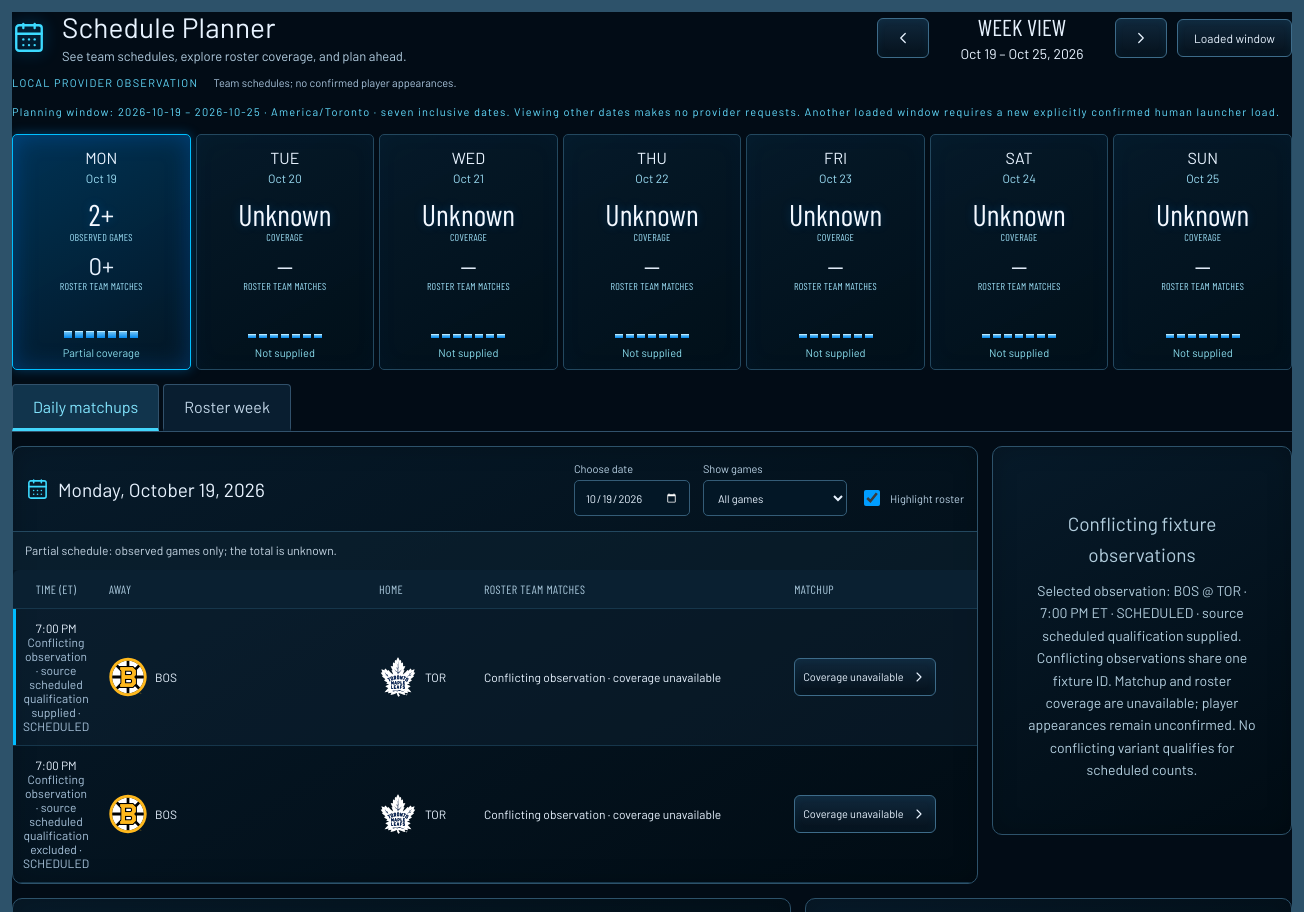
it: selects one conflicting eligibility variant without presenting arbitrary matchup details
The image size is (1304, 912).
Click the button with aria-label "Select": (865, 814) [794,795,936,833]
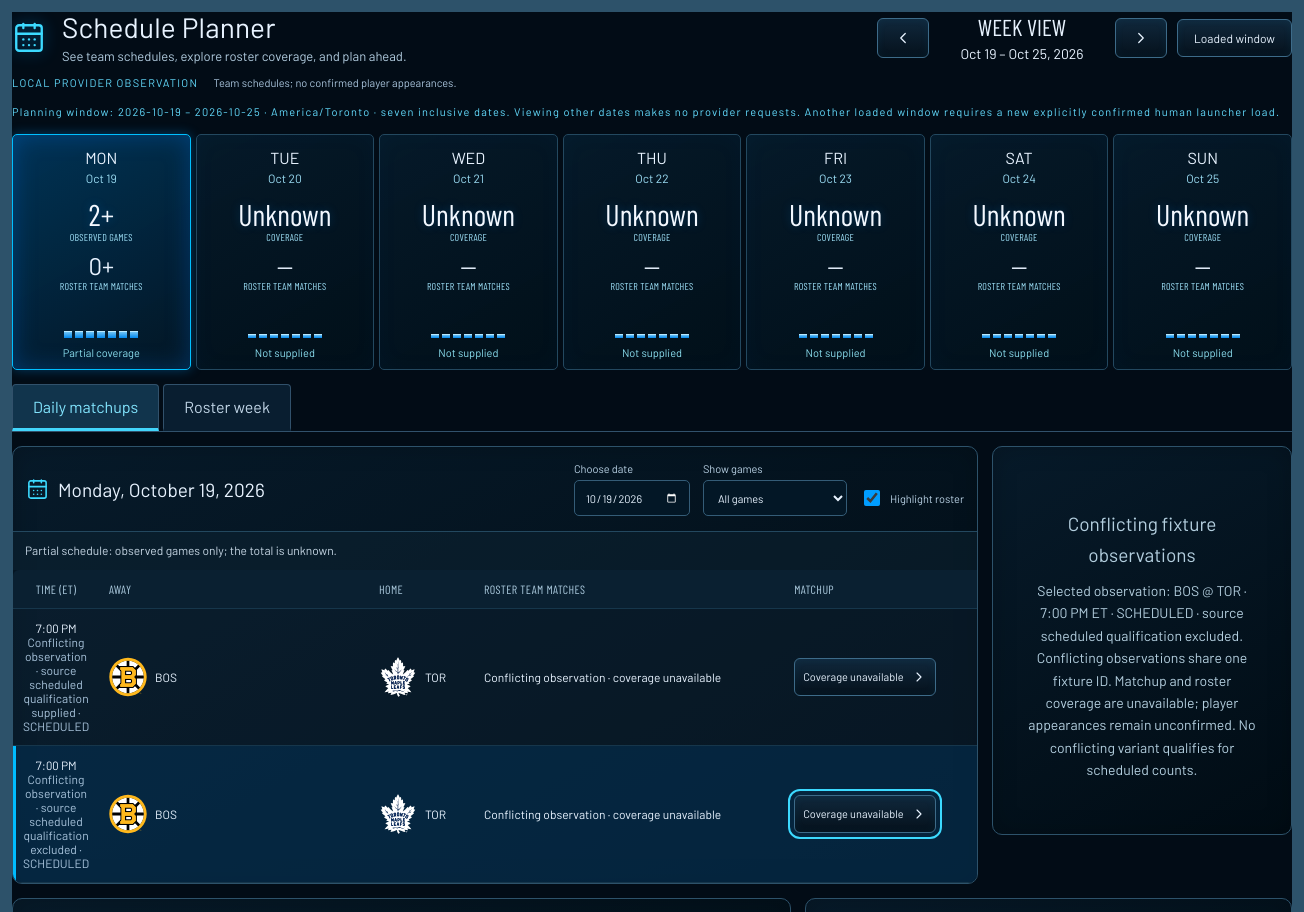
expect the heading "Conflicting fixture observations" is shown: met, box [1068,512,1216,566]
expect the text "source scheduled qualification excluded" is shown: met, box [1041,604,1244,644]
